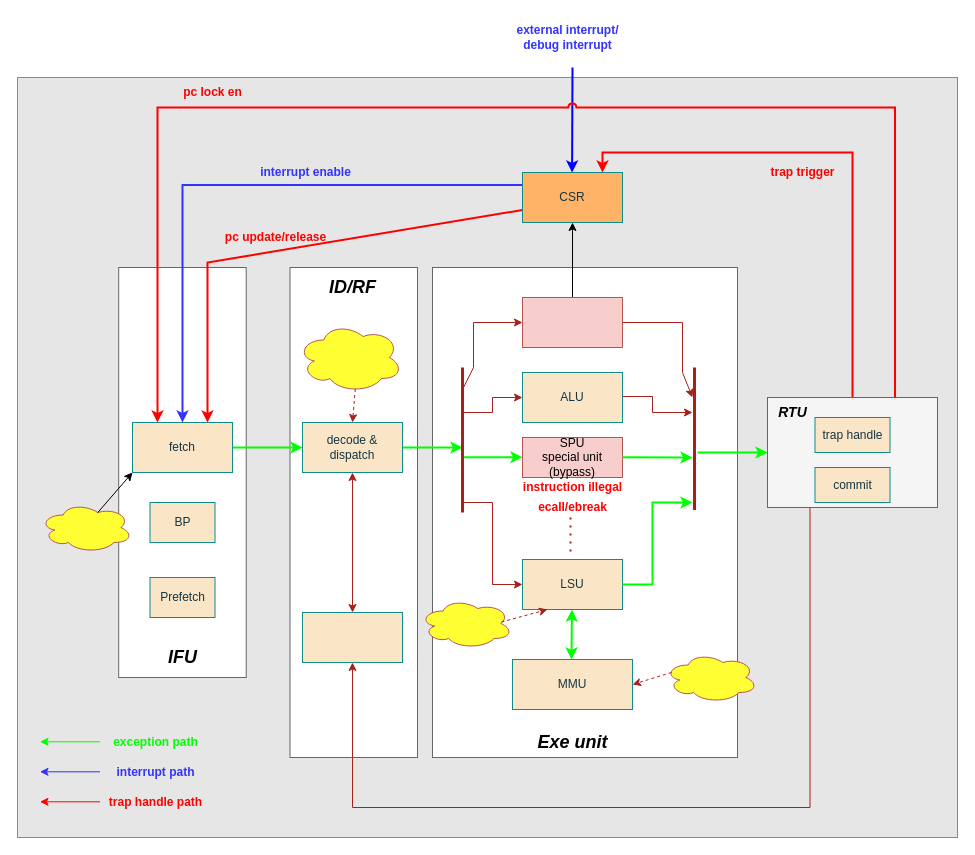
This 975x855 diagram has some shape labels left out. The centre of each missing label's shape, as x and y in pixels:
access/page fault: pixel 711 677
IFU exception: pixel 85 527
instr illegal/ ecall/ ebreak: pixel 349 357
lsu exception: pixel 465 623
Reg file: pixel 352 637
SIU system inst unit (unimplement): pixel 572 322
